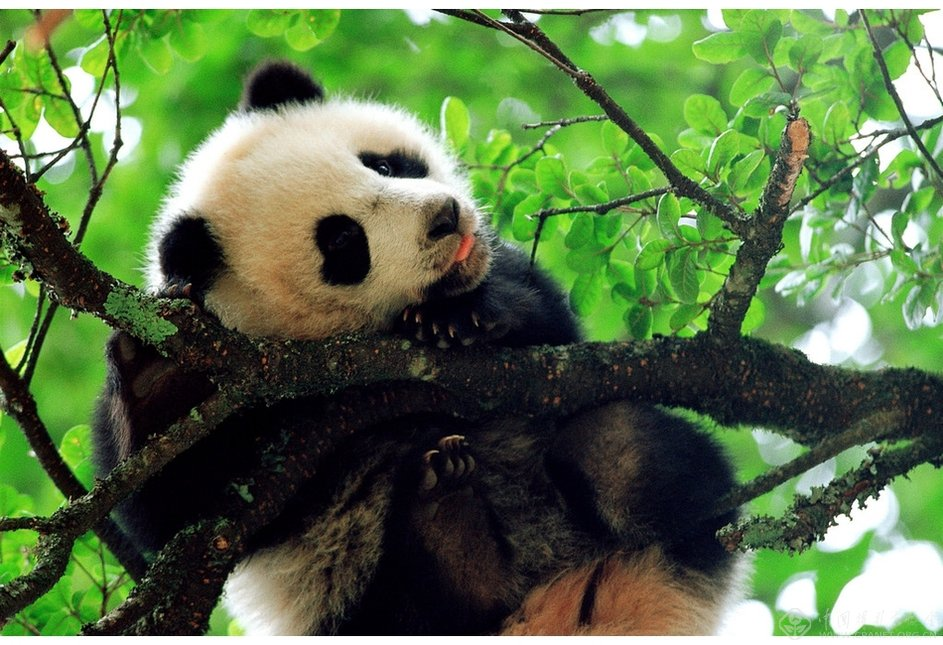panda: (83, 49, 767, 640)
